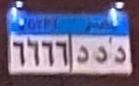6: (40, 38, 54, 69), (12, 39, 26, 68), (56, 37, 69, 67), (27, 37, 39, 66)
daal: (75, 43, 90, 66), (112, 44, 127, 66), (94, 44, 109, 64)
